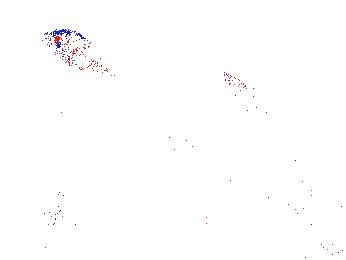X-ray fish: (40, 29, 117, 77)
glassfish: (158, 132, 263, 188)
redtail glassfish: (220, 71, 263, 115)
